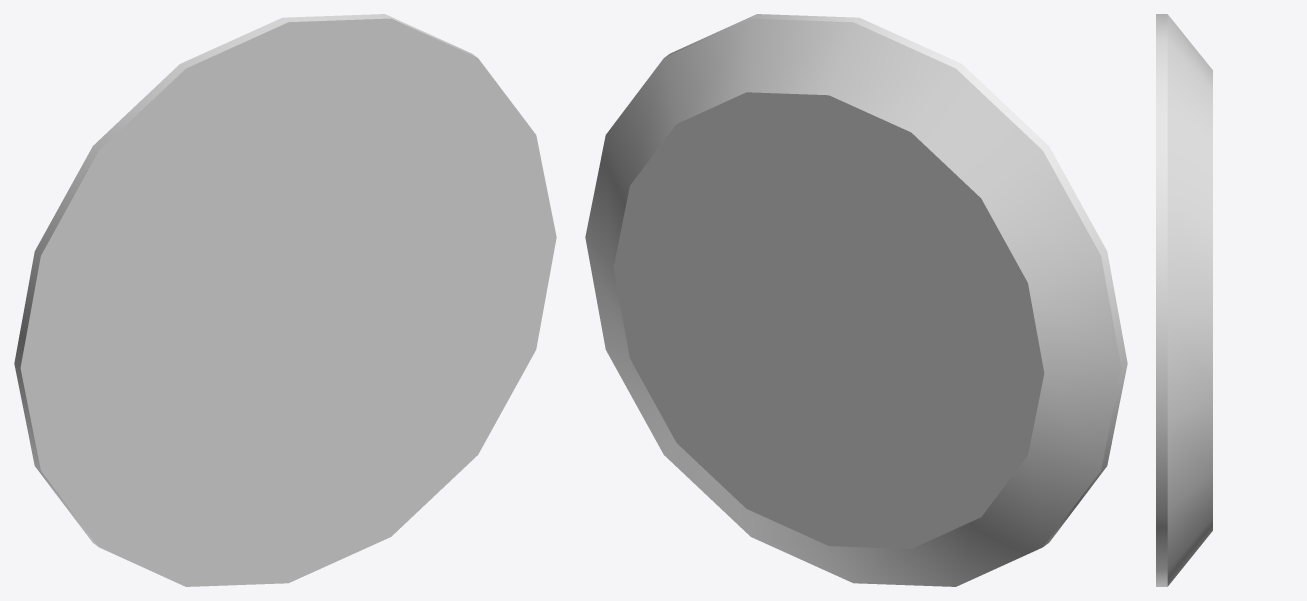
Rendered from Swi_Mini_1X1_off.FBX.
3 renders of one model, left to right at view 1: azimuth 30°, elevation 25°; view 2: azimuth 150°, elevation 25°; view 3: azimuth 270°, elevation 25°, orthographic. The views are drawn at different scales.
Parts seen in each view (by area): view 1: Box002; view 2: Box002; view 3: Box002.
Boxes of the visible parts, left/top/right/bottom form: Box002: left=14, top=14, right=556, bottom=586; Box002: left=585, top=14, right=1127, bottom=586; Box002: left=1156, top=14, right=1212, bottom=586.
Size of the model in its own units: 0.5 by 0.5 by 0.1192.
